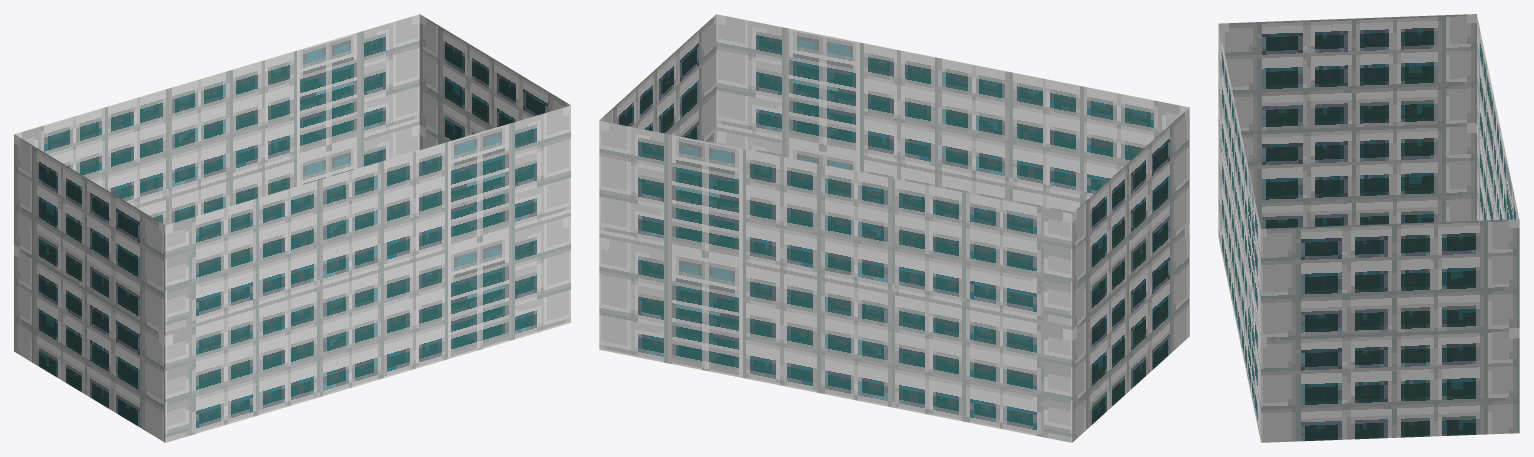
3 renders of one model, left to right at view 1: azimuth 30°, elevation 25°; view 2: azimuth 150°, elevation 25°; view 3: azimuth 270°, elevation 25°, orthographic. The views are drawn at different scales.
Visible parts, largest first — view 1: obj-87; view 2: obj-87; view 3: obj-87.
Part boxes in pixels (box(x1,y1,x2,y2)): obj-87: box(14, 14, 570, 442); obj-87: box(599, 14, 1189, 442); obj-87: box(1218, 14, 1519, 442).
Size of the model in its own units: 5.53 by 2.57 by 3.27.
Materials: 1 (1 with a texture image).
